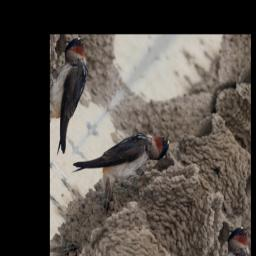Swallow: (66, 89, 177, 223)
